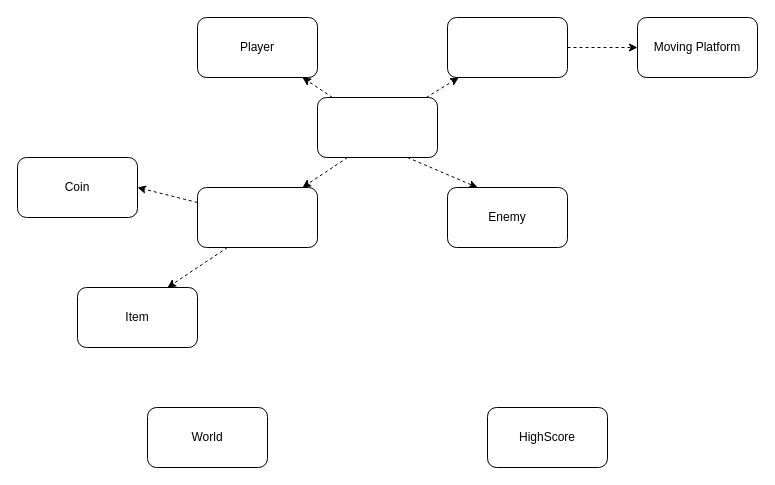
Image size: 775x485. Some labels were removed from this diagram. Here are the shapes that lost their labels. From the top down, the centre of each, then its label:
point 507,47: Platform
point 377,127: Object
point 257,217: Collectable
